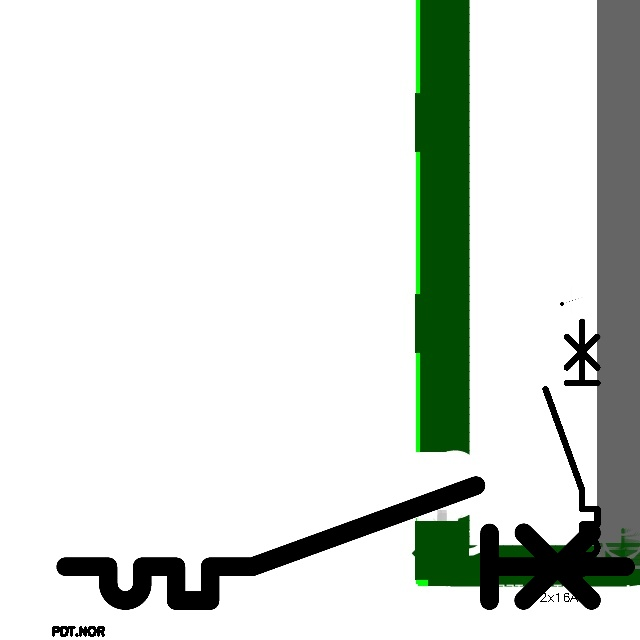interruptor_termomagnetico: (51, 471, 640, 615), (539, 315, 604, 581)
